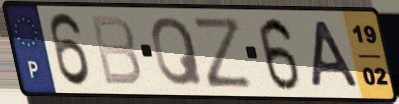6: (256, 15, 303, 93), (47, 11, 92, 89)
A: (309, 19, 362, 90)
B: (87, 13, 144, 88)
Q: (149, 15, 207, 89)
Z: (189, 15, 255, 91)
